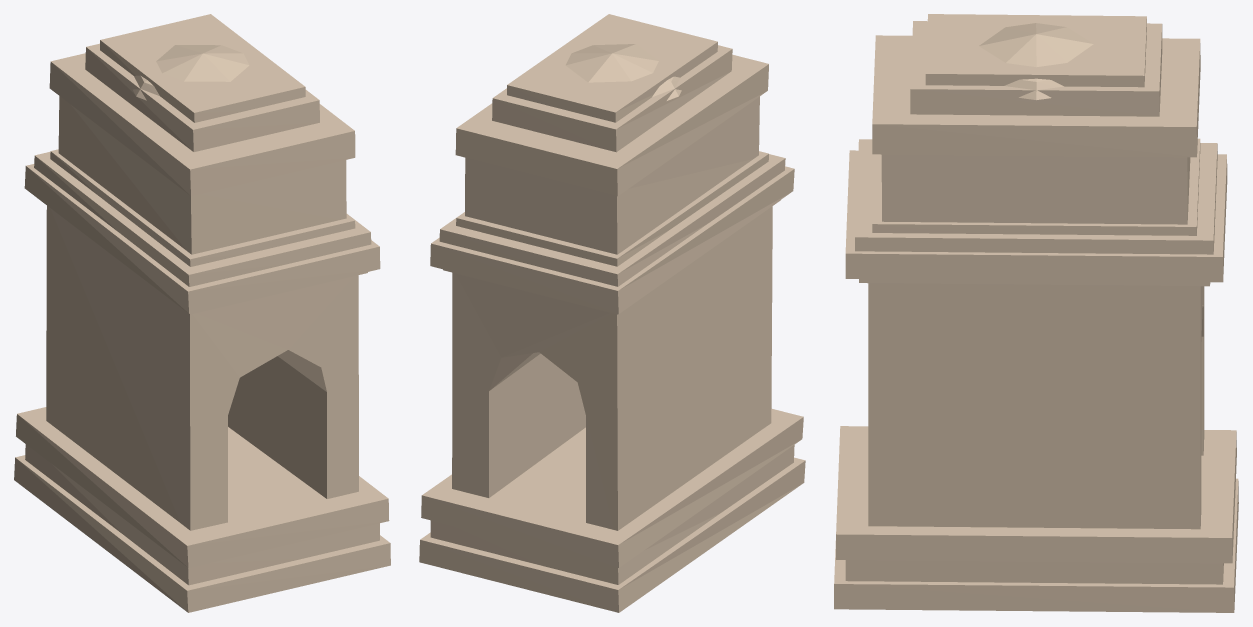
The model's file is india-gate_lod2.glb.
3 renders of one model, left to right at view 1: azimuth 30°, elevation 25°; view 2: azimuth 150°, elevation 25°; view 3: azimuth 270°, elevation 25°, orthographic. The views are drawn at different scales.
Parts seen in each view (by area): view 1: india-gate; view 2: india-gate; view 3: india-gate.
Part boxes in pixels (x1,y1,x2,y2): india-gate: (14,14,390,612); india-gate: (419,14,805,612); india-gate: (834,14,1238,612).
Size of the model in its own units: 19.34 by 41.57 by 29.19.
